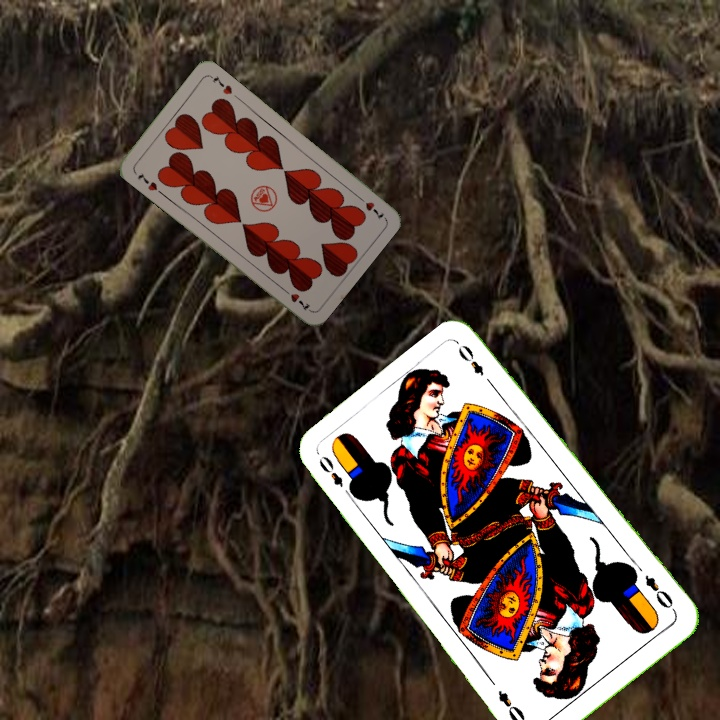EO: (314, 451, 357, 501), (640, 571, 679, 615)
H7: (353, 191, 387, 222), (133, 168, 160, 193)
